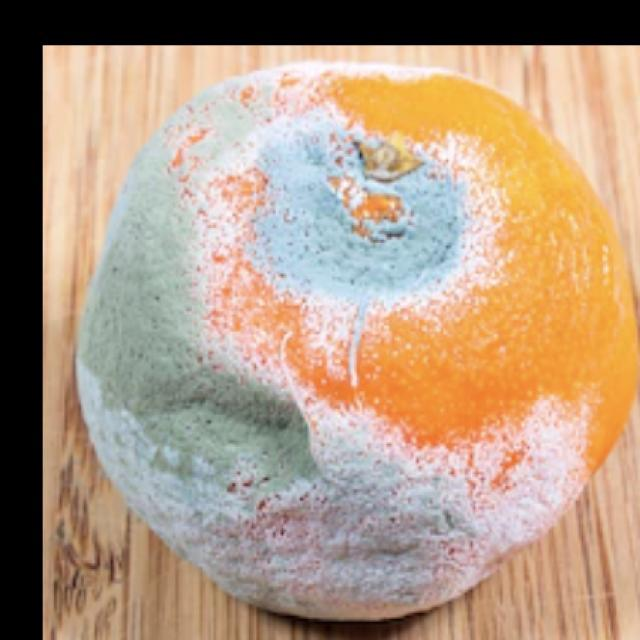sangat-busuk: (76, 63, 635, 619)
